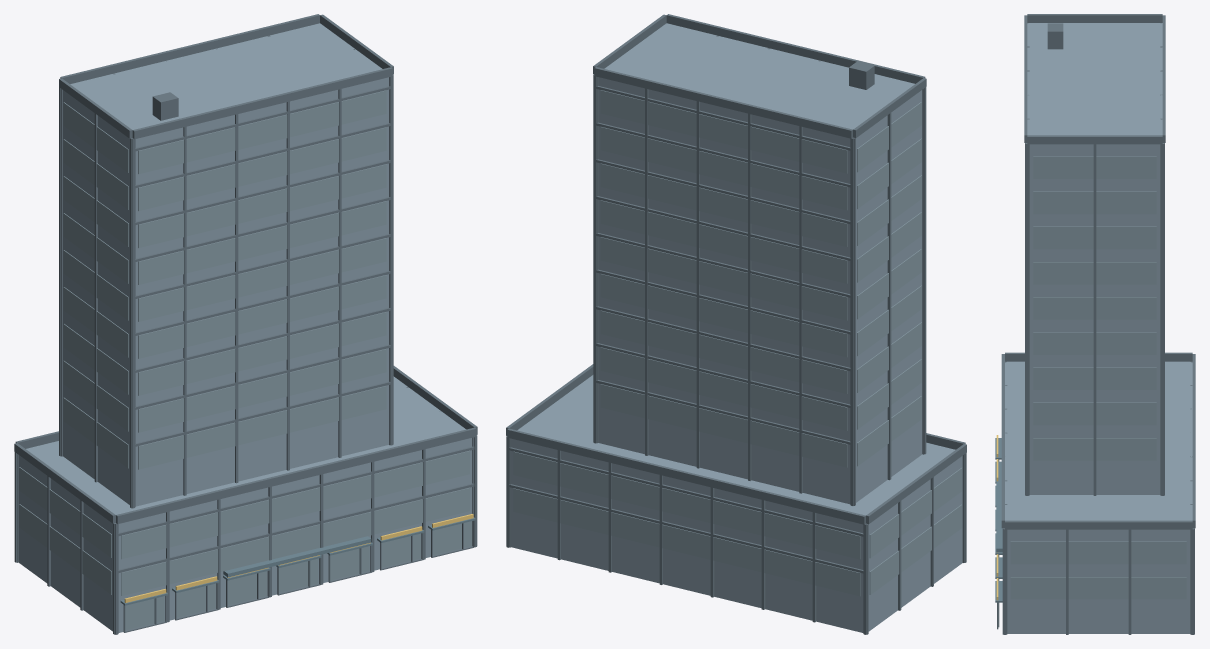
The model's file is commercial_4x2_b.glb.
The picture shows the model from 3 angles, left to right: view 1: azimuth 30°, elevation 25°; view 2: azimuth 150°, elevation 25°; view 3: azimuth 270°, elevation 25°; orthographic projection. The views are drawn at different scales.
Parts seen in each view (by area): view 1: commercial_4x2_b_0; view 2: commercial_4x2_b_0; view 3: commercial_4x2_b_0.
Part boxes in pixels (x1,y1,x2,y2): commercial_4x2_b_0: (14, 14, 477, 634); commercial_4x2_b_0: (506, 14, 966, 634); commercial_4x2_b_0: (995, 14, 1195, 634).
Bounding box in the file's own units: 31 × 40.5 × 15.5.
